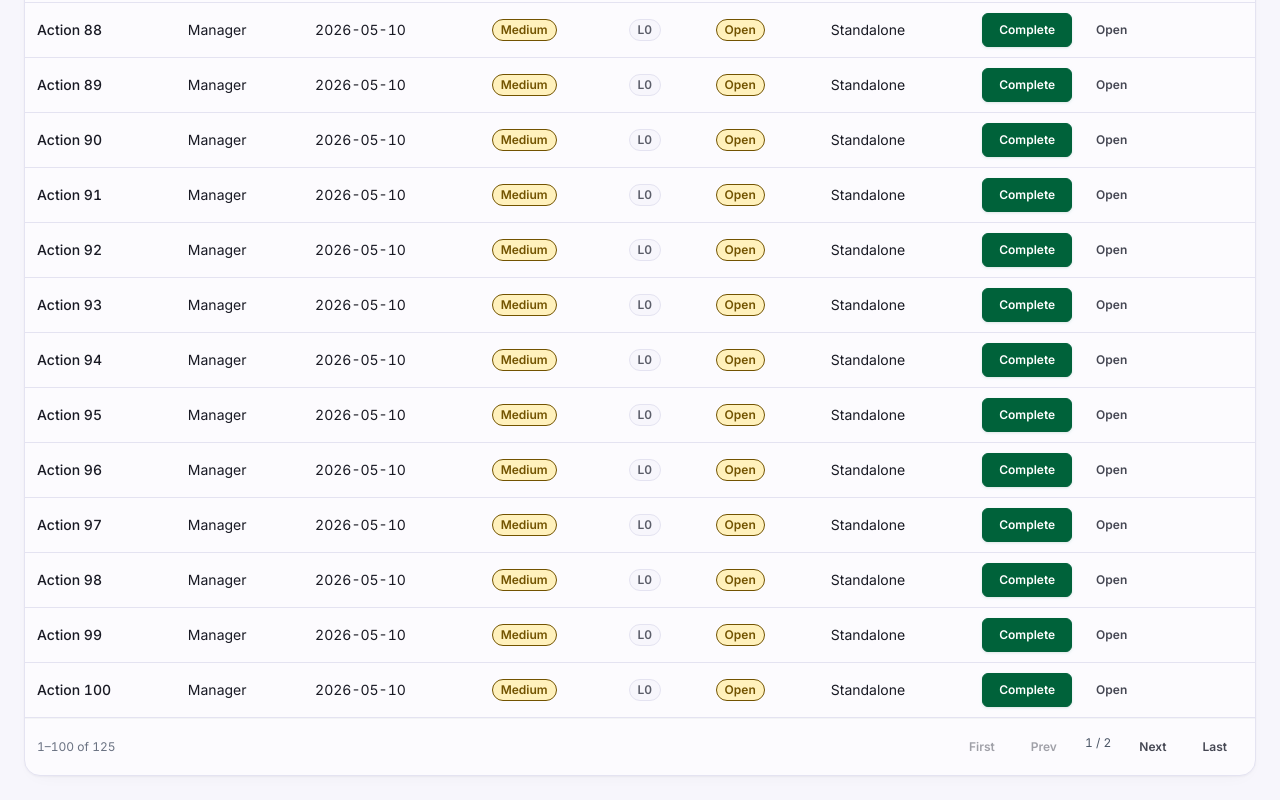
it: ManagerActions › shows the result count and requests the next page instead of silently capping at 100
(page scrolled)
Click the button "Next".
click(1153, 747)  # box [1123,731,1182,763]
(page scrolled)
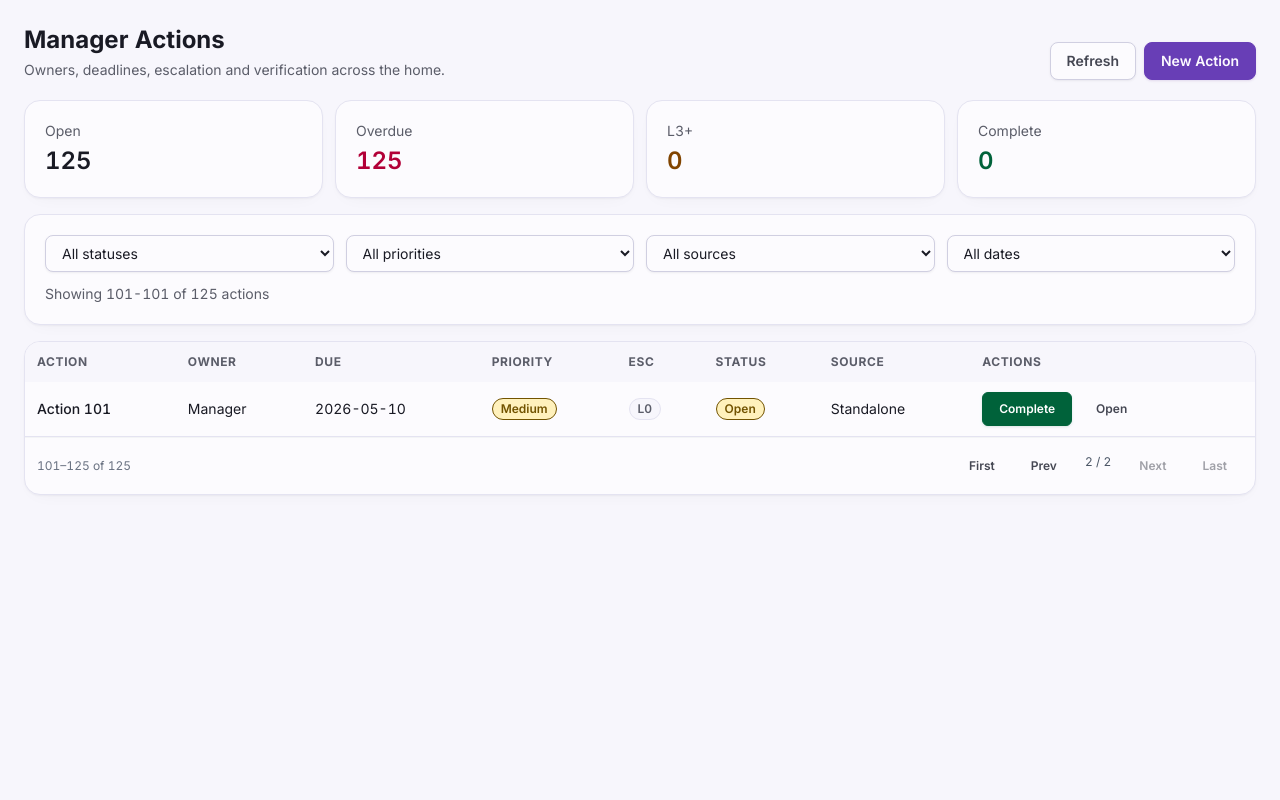
Now the button "Action 101" is shown, box [37,399,111,419]
Now the text "Showing 101-101 of 125 actions" is shown, box [45,285,269,302]
